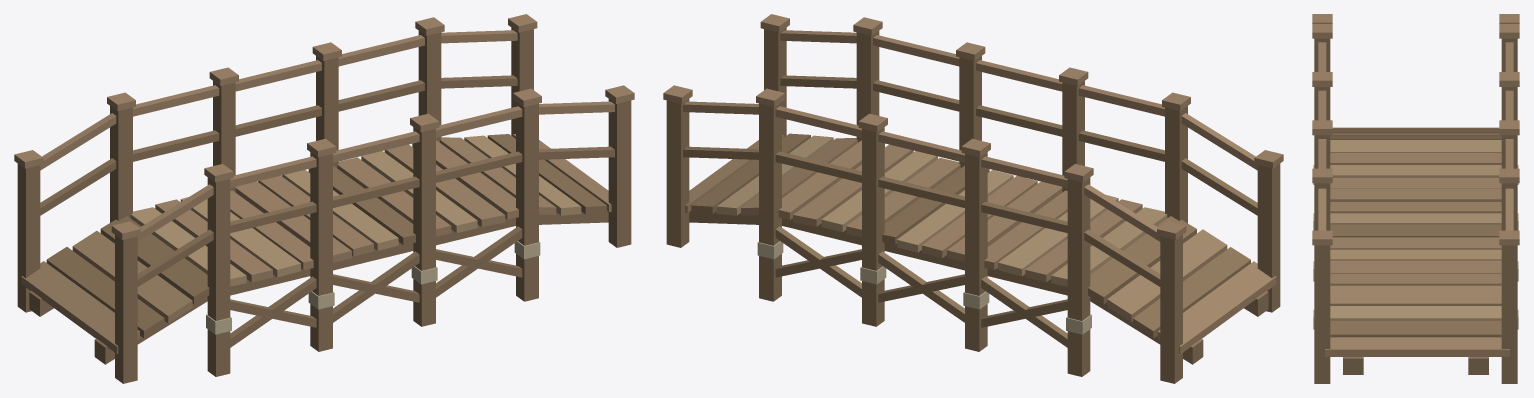
The model's file is timber_teaching_bridge.glb.
The picture shows the model from 3 angles, left to right: view 1: azimuth 30°, elevation 25°; view 2: azimuth 150°, elevation 25°; view 3: azimuth 270°, elevation 25°; orthographic projection. The views are drawn at different scales.
Parts seen in each view (by area): view 1: BridgeBody; view 2: BridgeBody; view 3: BridgeBody.
Boxes of the visible parts, x1=… form: BridgeBody: x1=14, y1=14, x2=634, y2=383; BridgeBody: x1=663, y1=14, x2=1283, y2=383; BridgeBody: x1=1312, y1=14, x2=1519, y2=383.
Bounding box in the file's own units: 5 × 1.88 × 1.82.
